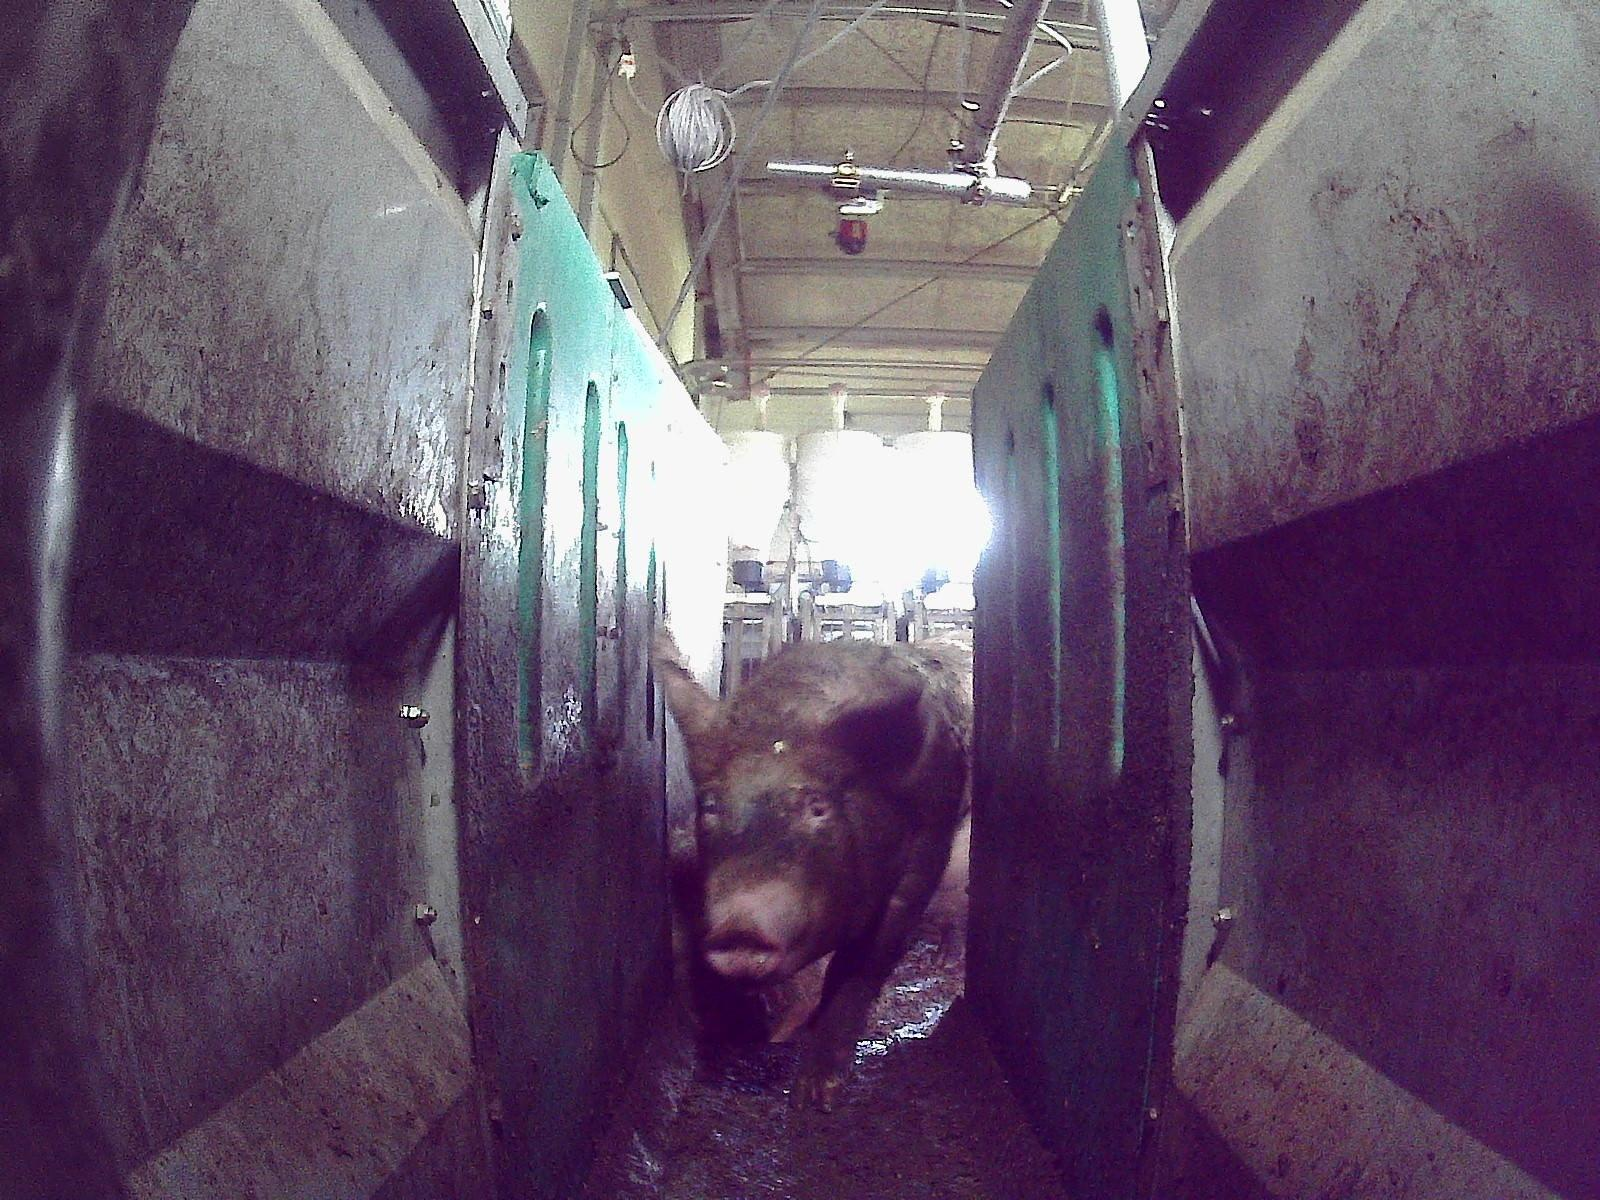Face: (688, 737, 876, 975)
